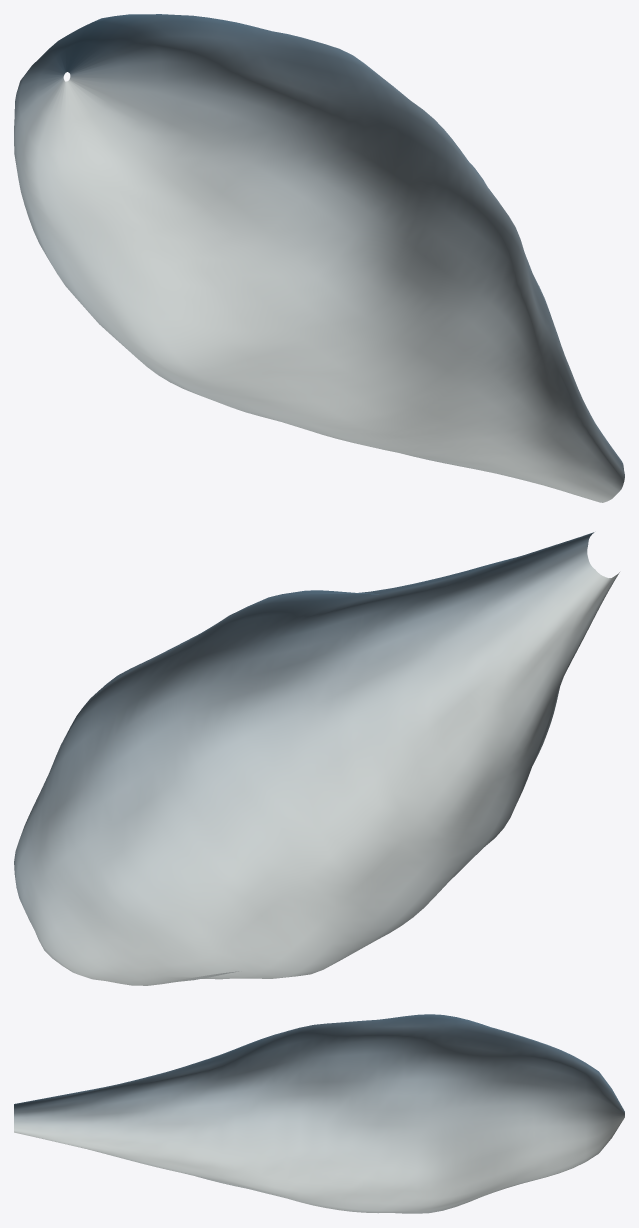
Rendered from whale_body.glb.
3 renders of one model, top to bottom at view 1: azimuth 30°, elevation 25°; view 2: azimuth 150°, elevation 25°; view 3: azimuth 270°, elevation 25°, orthographic. The views are drawn at different scales.
Visible parts, largest first — view 1: world; view 2: world; view 3: world.
Part boxes in pixels (box(x1,y1,x2,y2)): world: box(14, 14, 624, 502); world: box(14, 532, 619, 985); world: box(14, 1014, 624, 1213).
Bounding box in the file's own units: 1.61 × 1.31 × 4.2.
